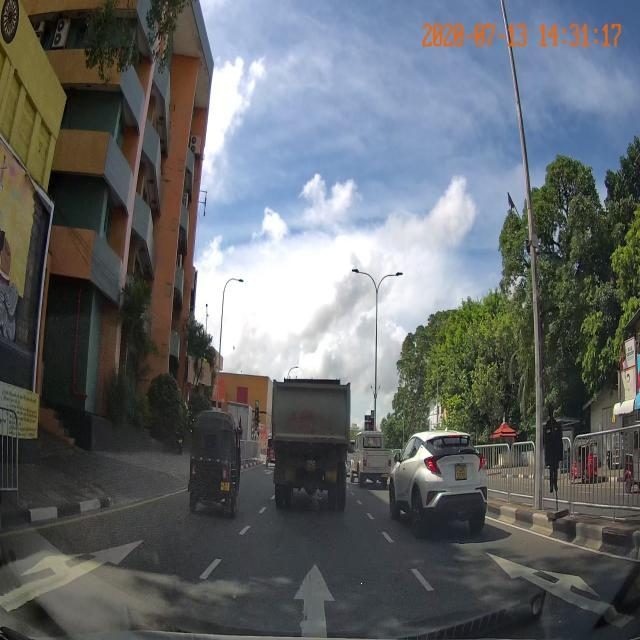forward: (175, 528, 459, 624)
